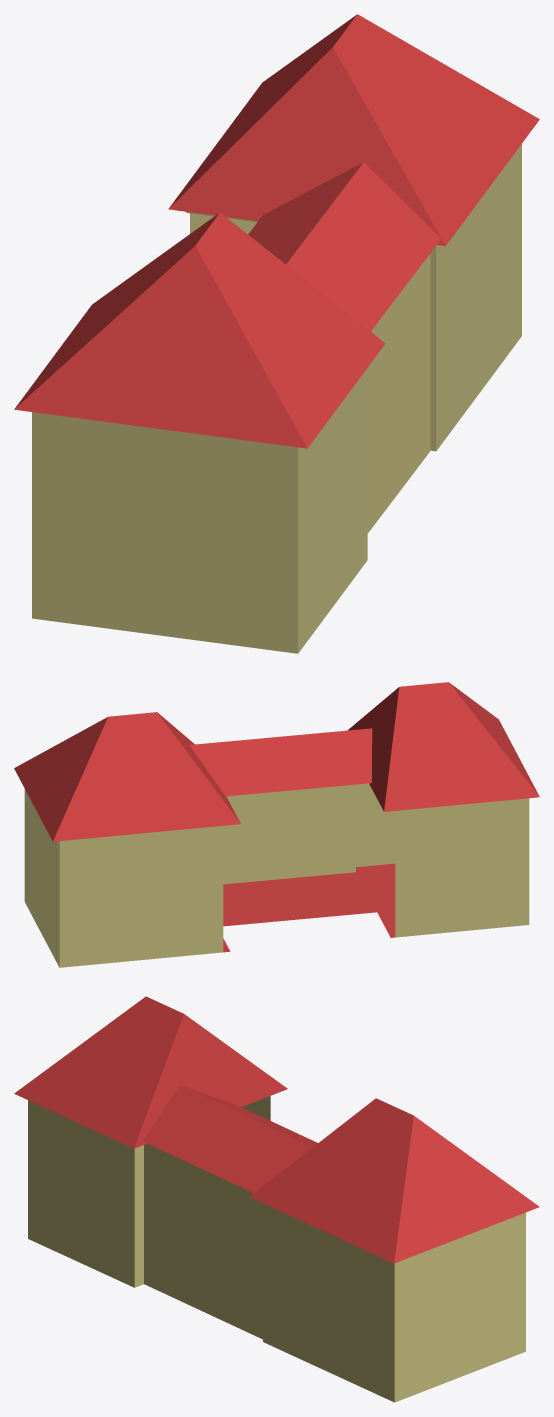
3 views of the same model, one above another, from view 1: azimuth 30°, elevation 25°; view 2: azimuth 150°, elevation 25°; view 3: azimuth 270°, elevation 25° (orthographic). The views are drawn at different scales.
Visible parts, largest first — view 1: group_5, group_3, group_7, group_9, group_11, group_13, group_4, group_8; view 2: group_9, group_5, group_7, group_3, group_13, group_11, group_14, group_6, group_8, group_4; view 3: group_9, group_7, group_3, group_5, group_13, group_11, group_4, group_8.
Boxes of the visible parts, <box> form: group_5: <box>32,368,367,653</box>; group_3: <box>14,212,385,448</box>; group_7: <box>168,14,539,245</box>; group_9: <box>186,144,521,455</box>; group_11: <box>248,162,456,331</box>; group_13: <box>367,259,426,533</box>; group_4: <box>15,291,384,447</box>; group_8: <box>169,77,525,245</box>; group_9: <box>24,789,230,967</box>; group_5: <box>347,783,529,937</box>; group_7: <box>14,712,240,841</box>; group_3: <box>347,682,539,811</box>; group_13: <box>223,783,368,884</box>; group_11: <box>189,728,372,796</box>; group_14: <box>223,873,368,925</box>; group_6: <box>347,863,395,937</box>; group_8: <box>14,763,240,840</box>; group_4: <box>349,718,538,810</box>; group_9: <box>259,1202,525,1402</box>; group_7: <box>250,1098,539,1263</box>; group_3: <box>14,996,287,1148</box>; group_5: <box>28,1096,270,1287</box>; group_13: <box>150,1145,259,1337</box>; group_11: <box>143,1085,317,1204</box>; group_4: <box>16,1083,147,1148</box>; group_8: <box>394,1198,539,1261</box>.
Size of the model in its own units: 41.63 by 40.27 by 20.03.
